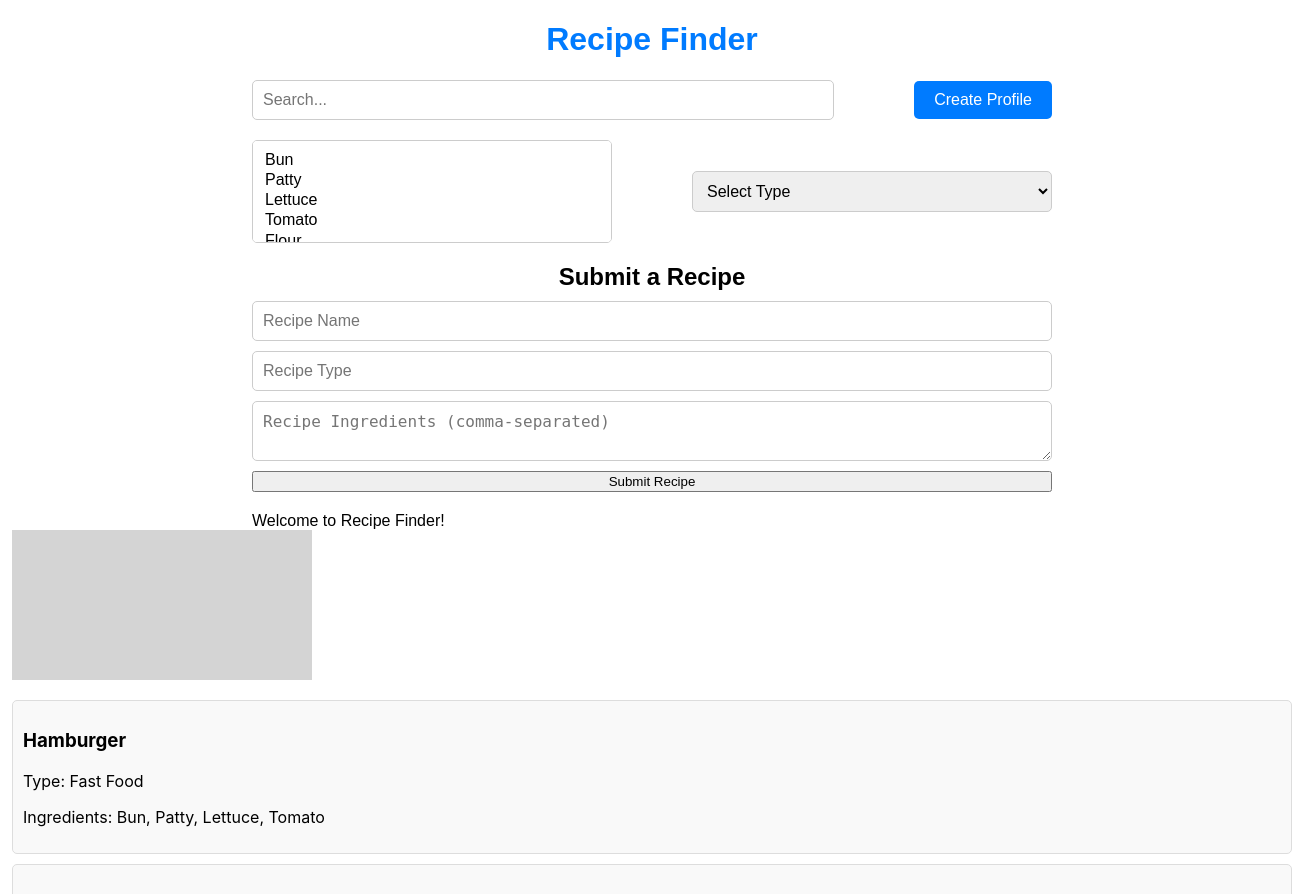
Test: App component tests › clearing the input clears the displayed text
The image size is (1292, 894).
Type "hello" into the field with placeholder "Search..." at [543, 100], box [252,80,834,120]
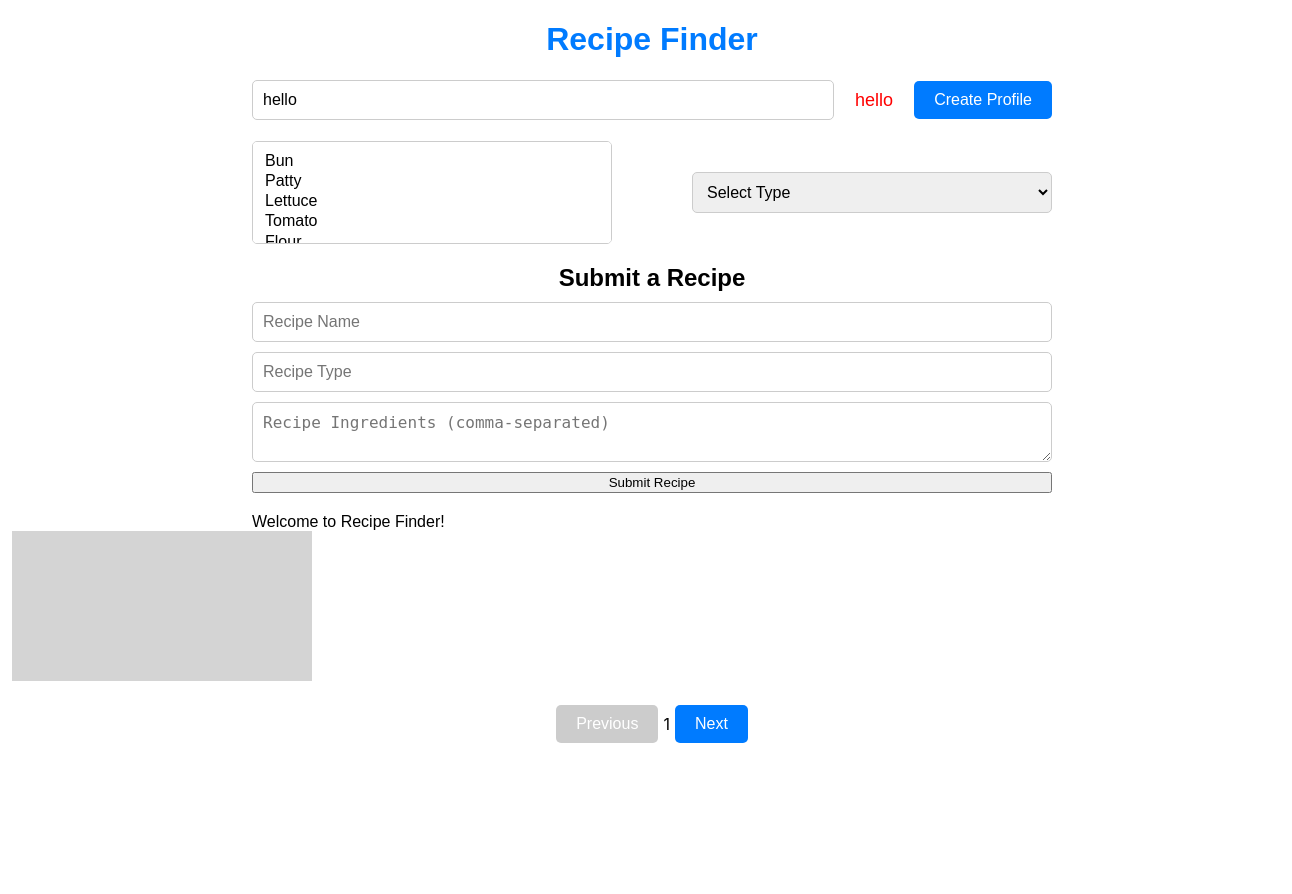
Clear the field with placeholder "Search..." at [543, 100], box [252,80,834,120]
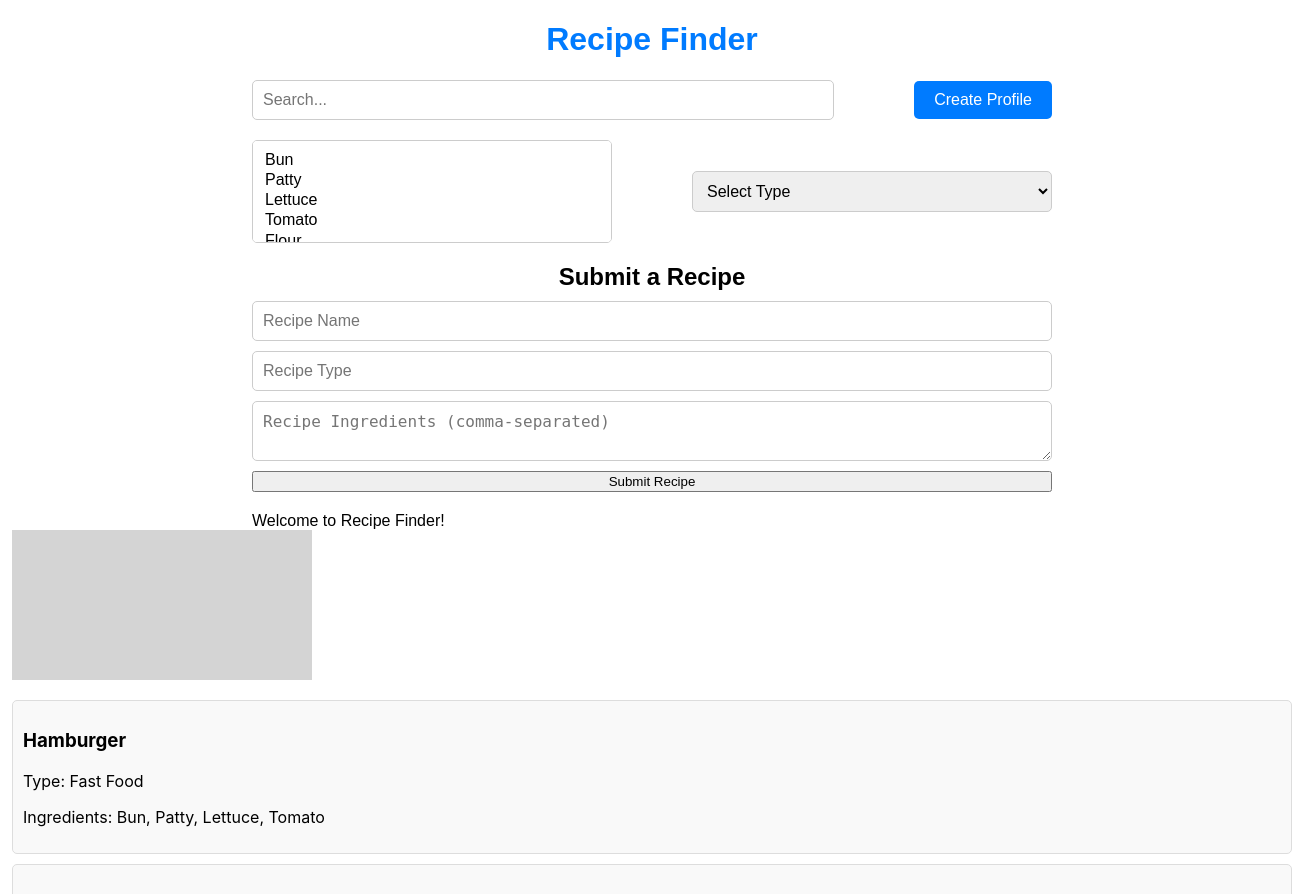
Check: the text "hello" is gone
